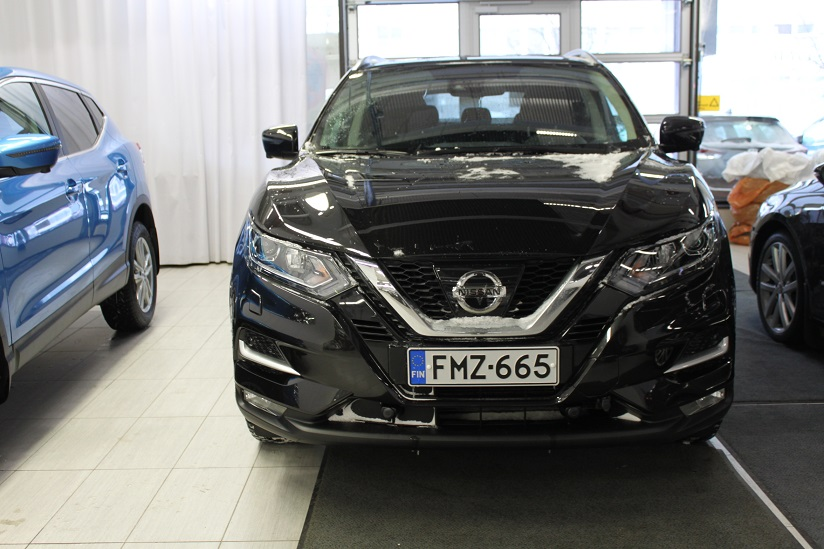license: (403, 345, 559, 393)
